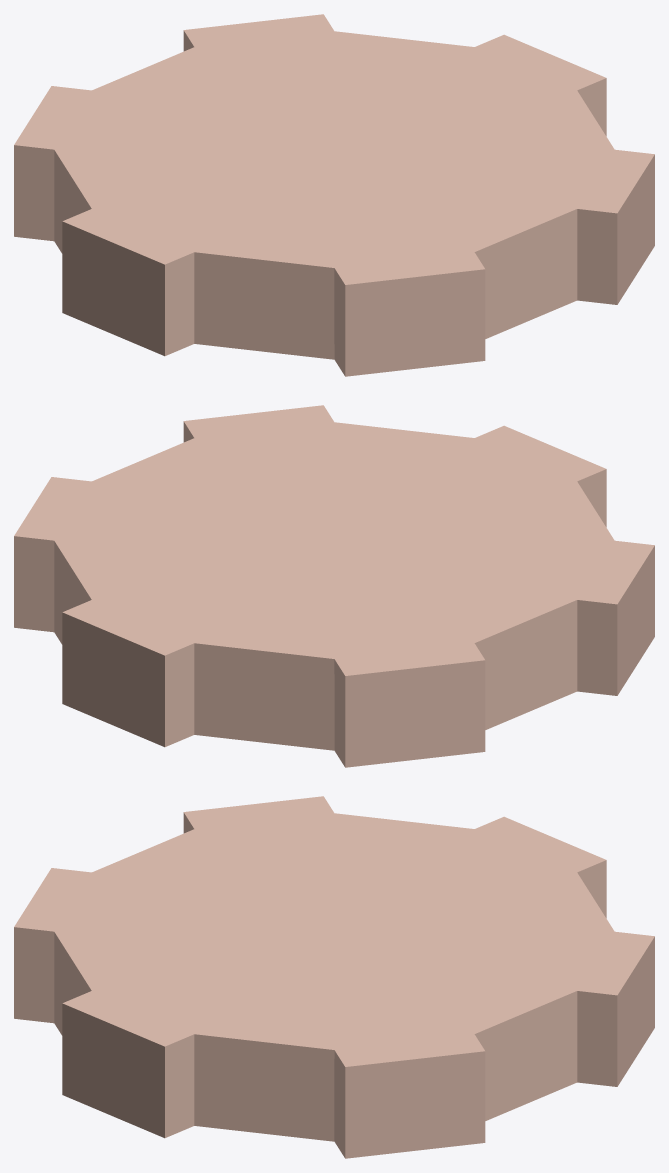
The picture shows the model from 3 angles, top to bottom: view 1: azimuth 30°, elevation 25°; view 2: azimuth 150°, elevation 25°; view 3: azimuth 270°, elevation 25°; orthographic projection.
Visible parts, largest first — view 1: Object45; view 2: Object45; view 3: Object45.
Part boxes in pixels (x1,y1,x2,y2): Object45: [14, 14, 654, 376]; Object45: [14, 405, 654, 767]; Object45: [14, 796, 654, 1158].
Bounding box in the file's own units: 20861 × 3291 × 20861.
